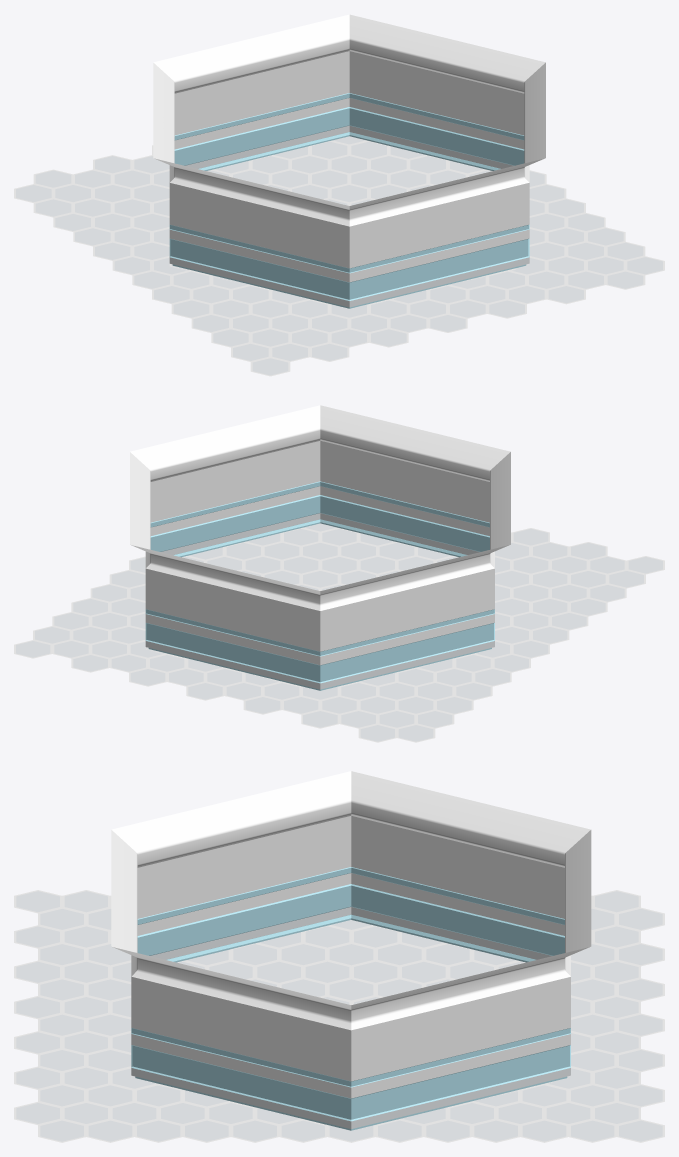
File: SelectionScene_hex.fbx
3 views of the same model, one above another, from view 1: azimuth 30°, elevation 25°; view 2: azimuth 150°, elevation 25°; view 3: azimuth 270°, elevation 25° (orthographic). The views are drawn at different scales.
Parts seen in each view (by area): view 1: Circle, Circle.001; view 2: Circle, Circle.001; view 3: Circle, Circle.001.
Part boxes in pixels (x1,y1,x2,y2): Circle: (153,14,545,309); Circle.001: (14,136,664,376); Circle: (130,405,510,690); Circle.001: (14,523,664,742); Circle: (111,771,591,1130); Circle.001: (14,890,664,1142).
Bounding box in the file's own units: 21.22 × 5.37 × 23.08.
